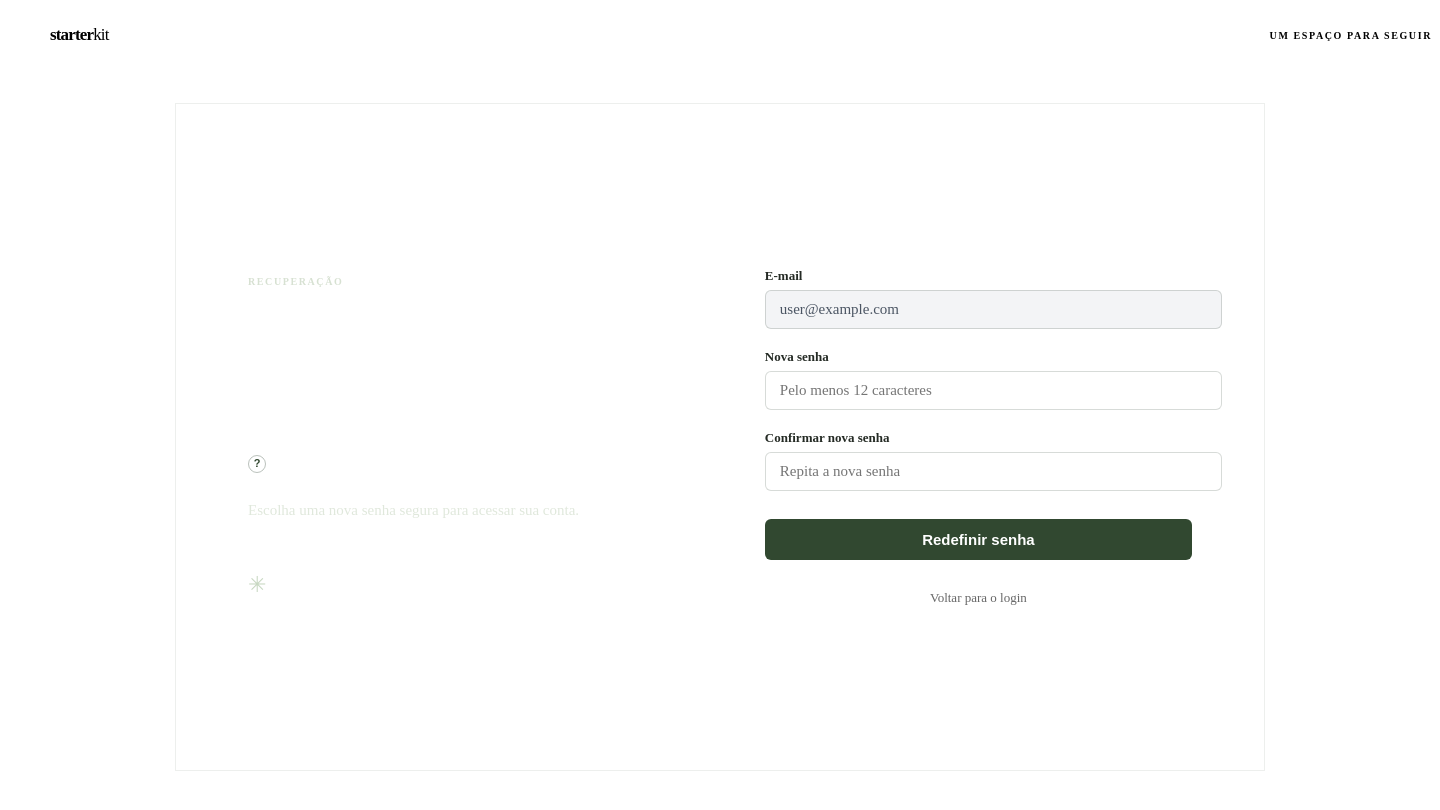
Scenario: ResetPasswordPage.vue › validates that passwords must match
Type "newPassword12345" into the password field with id "reset-password" at (993, 390), box left=765, top=370, right=1222, bottom=410
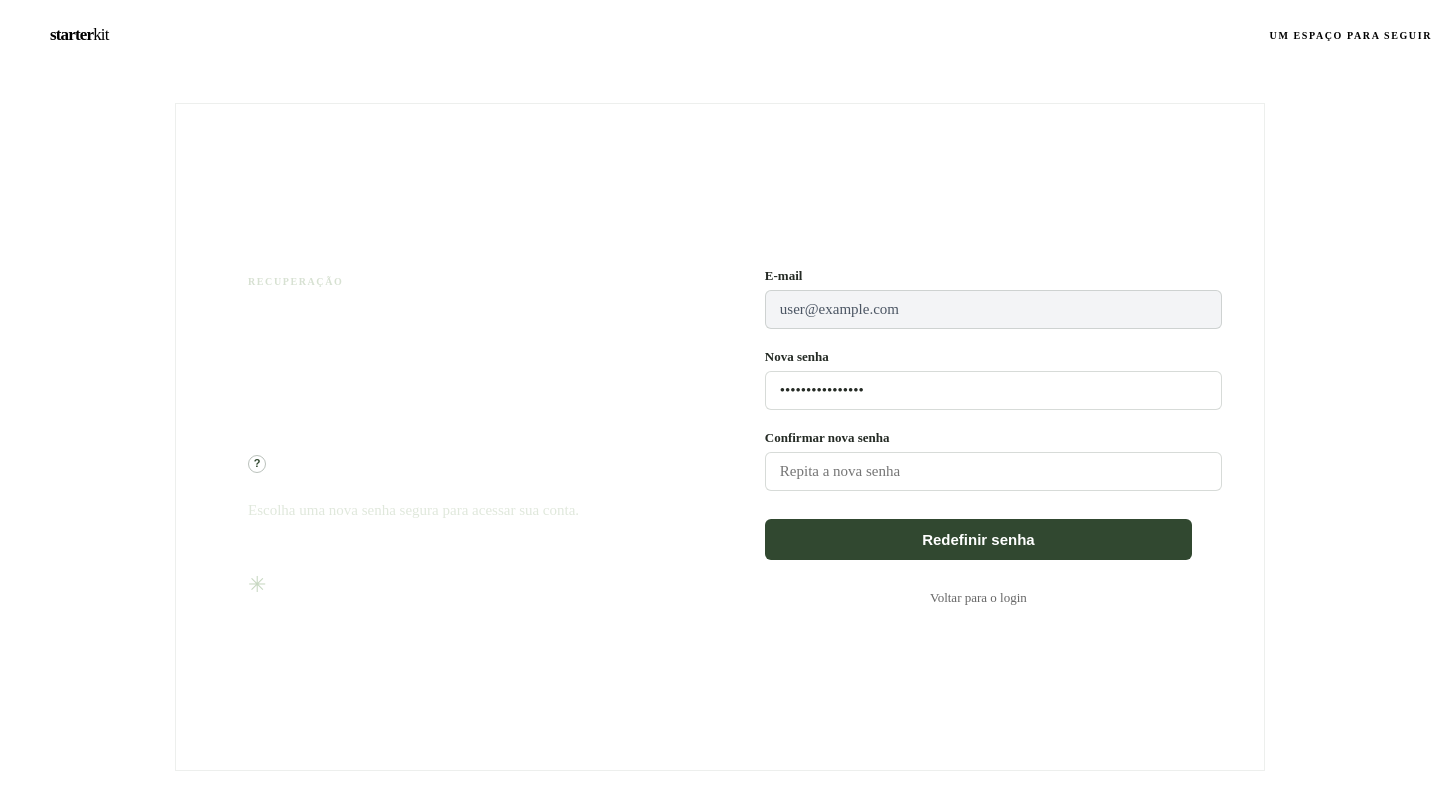
Type "differentPassword" into the password field with id "reset-password-confirmation" at (993, 471), box left=765, top=452, right=1222, bottom=490
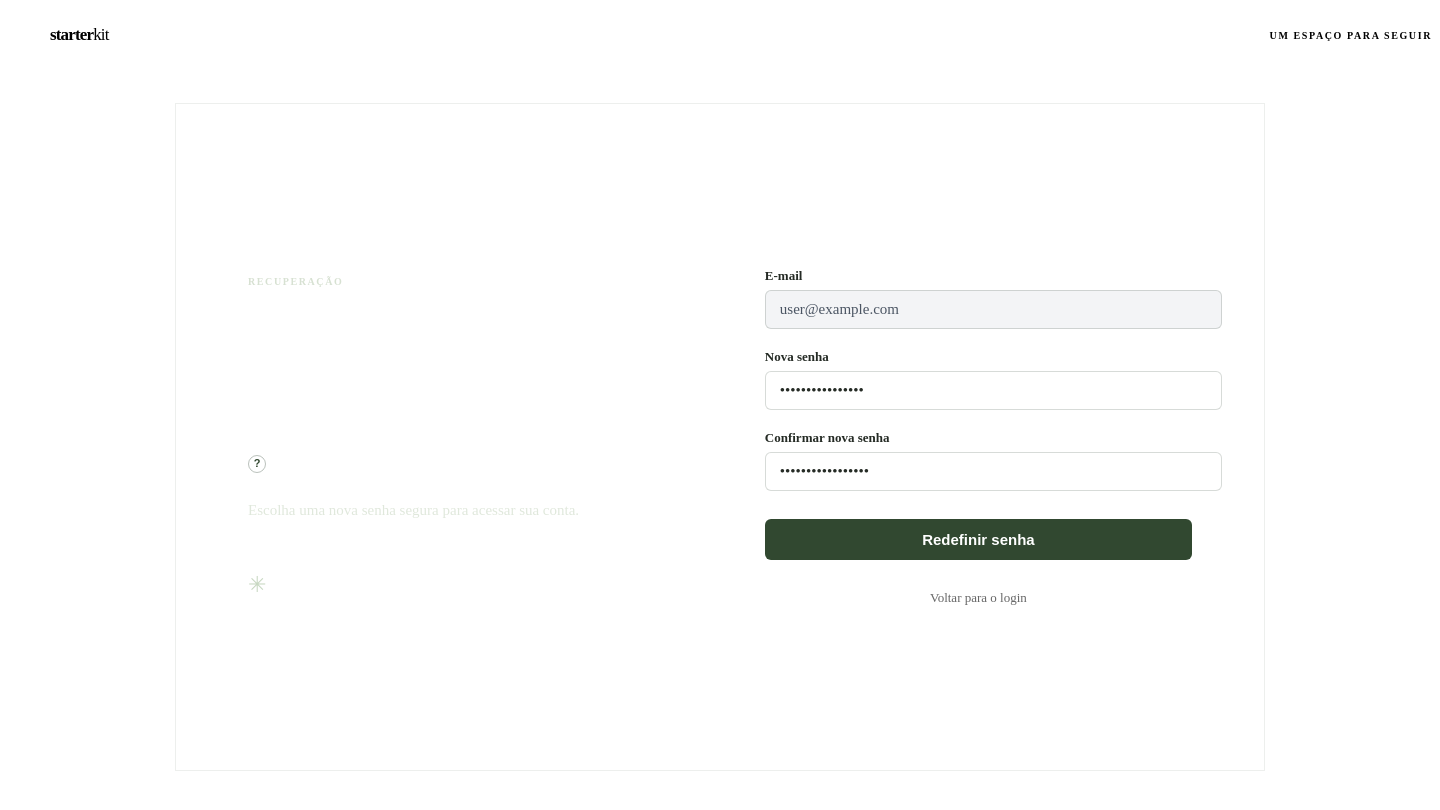
Submit the form, box left=765, top=268, right=1192, bottom=606
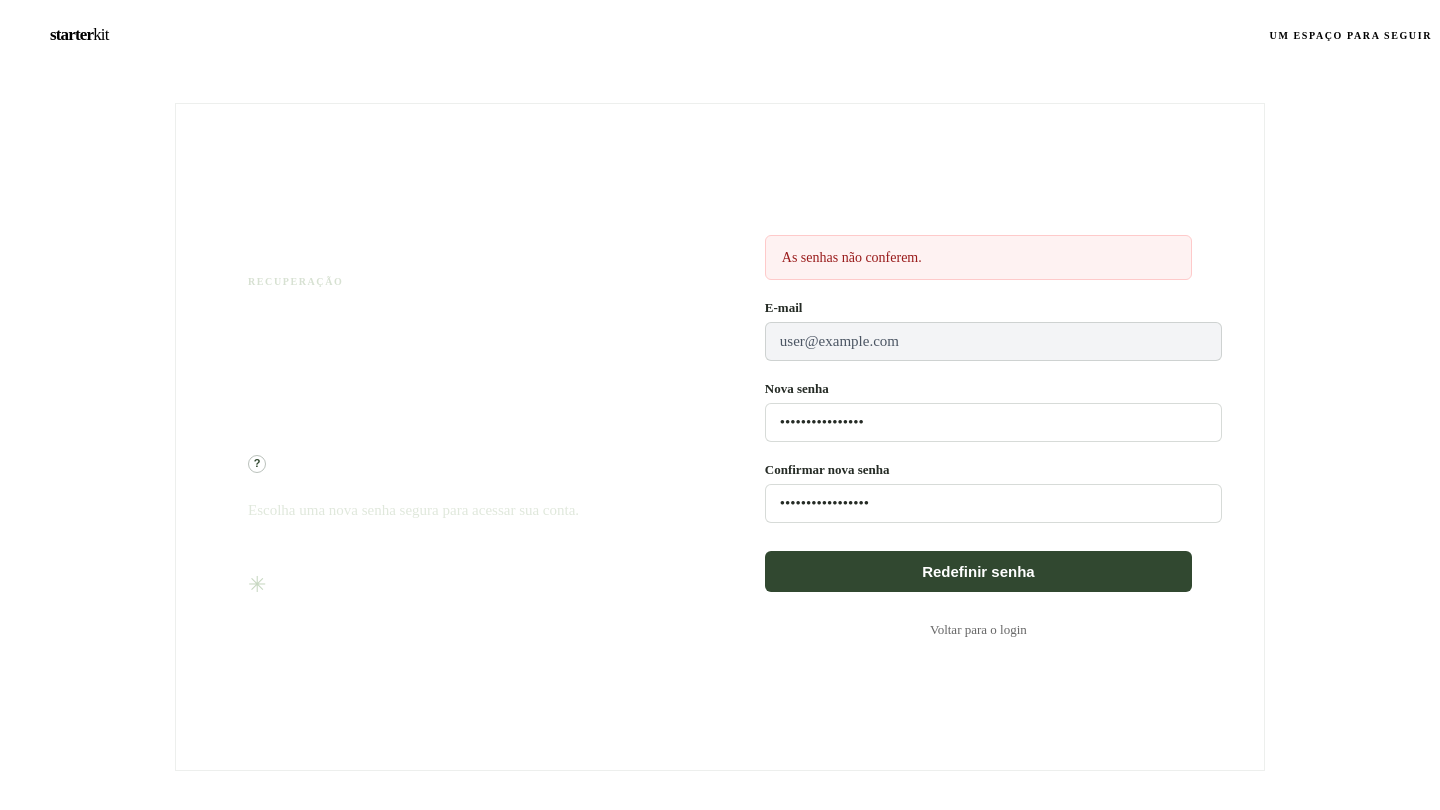
Check: the message "As senhas não conferem." is shown, box left=765, top=235, right=1192, bottom=280
